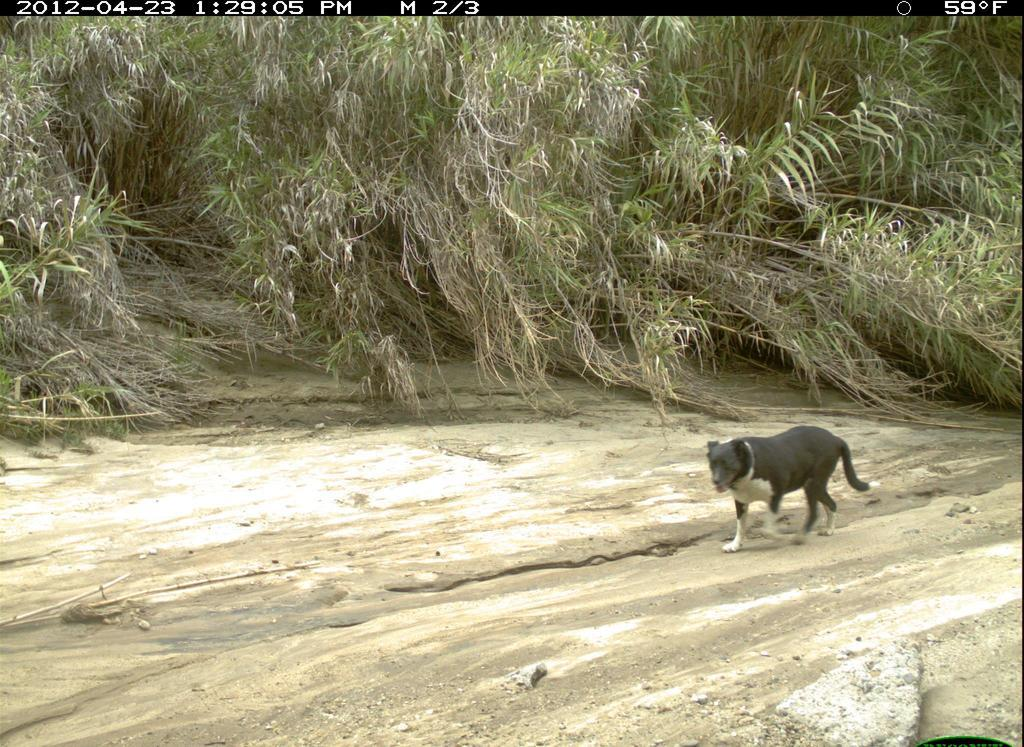dog: (694, 415, 884, 573)
